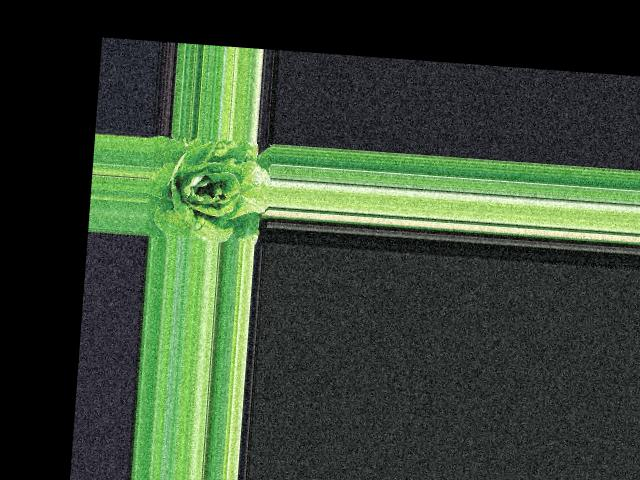lettuce: (146, 133, 268, 241)
